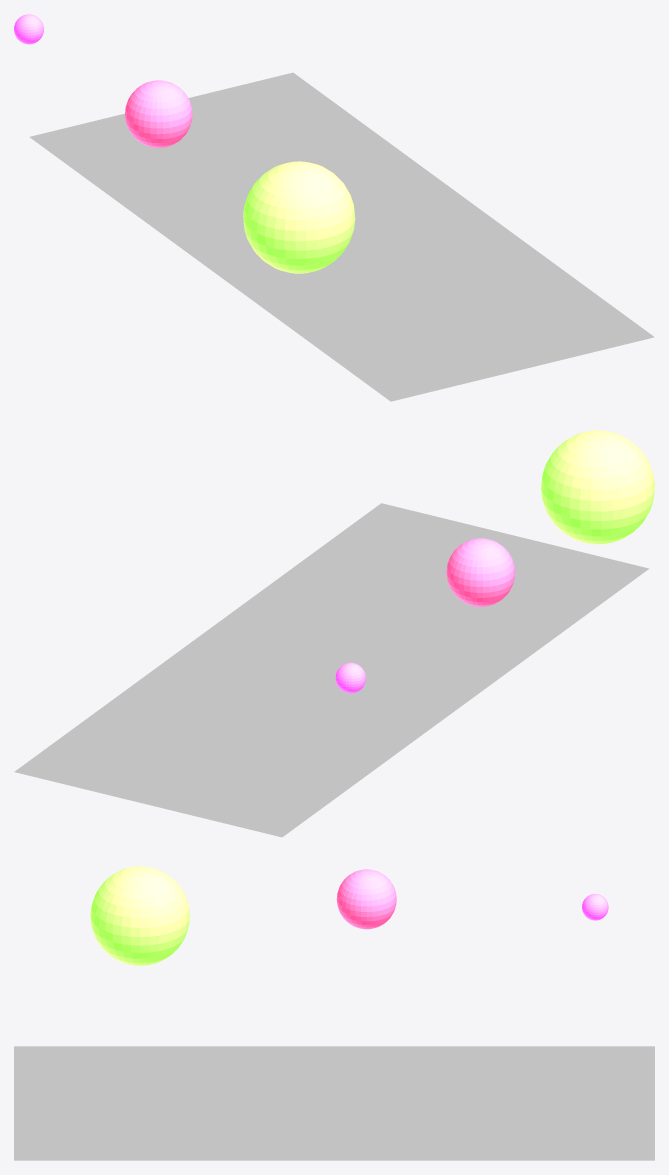
The picture shows the model from 3 angles, top to bottom: view 1: azimuth 30°, elevation 25°; view 2: azimuth 150°, elevation 25°; view 3: azimuth 270°, elevation 25°; orthographic projection. The views are drawn at different scales.
Visible parts, largest first — view 1: Plane, Sphere, Sphere.001, Sphere.002; view 2: Plane, Sphere, Sphere.001, Sphere.002; view 3: Plane, Sphere, Sphere.001, Sphere.002.
Boxes of the visible parts, bbox=[...] form: Plane: bbox=[29, 72, 654, 401]; Sphere: bbox=[243, 161, 355, 273]; Sphere.001: bbox=[125, 80, 192, 147]; Sphere.002: bbox=[14, 14, 43, 44]; Plane: bbox=[14, 503, 649, 837]; Sphere: bbox=[541, 430, 654, 544]; Sphere.001: bbox=[446, 538, 515, 606]; Sphere.002: bbox=[335, 662, 365, 693]; Plane: bbox=[14, 1046, 654, 1160]; Sphere: bbox=[90, 866, 189, 965]; Sphere.001: bbox=[336, 869, 396, 929]; Sphere.002: bbox=[582, 894, 608, 920].
Bounding box in the file's own units: 2.52 × 1.36 × 4.74.
